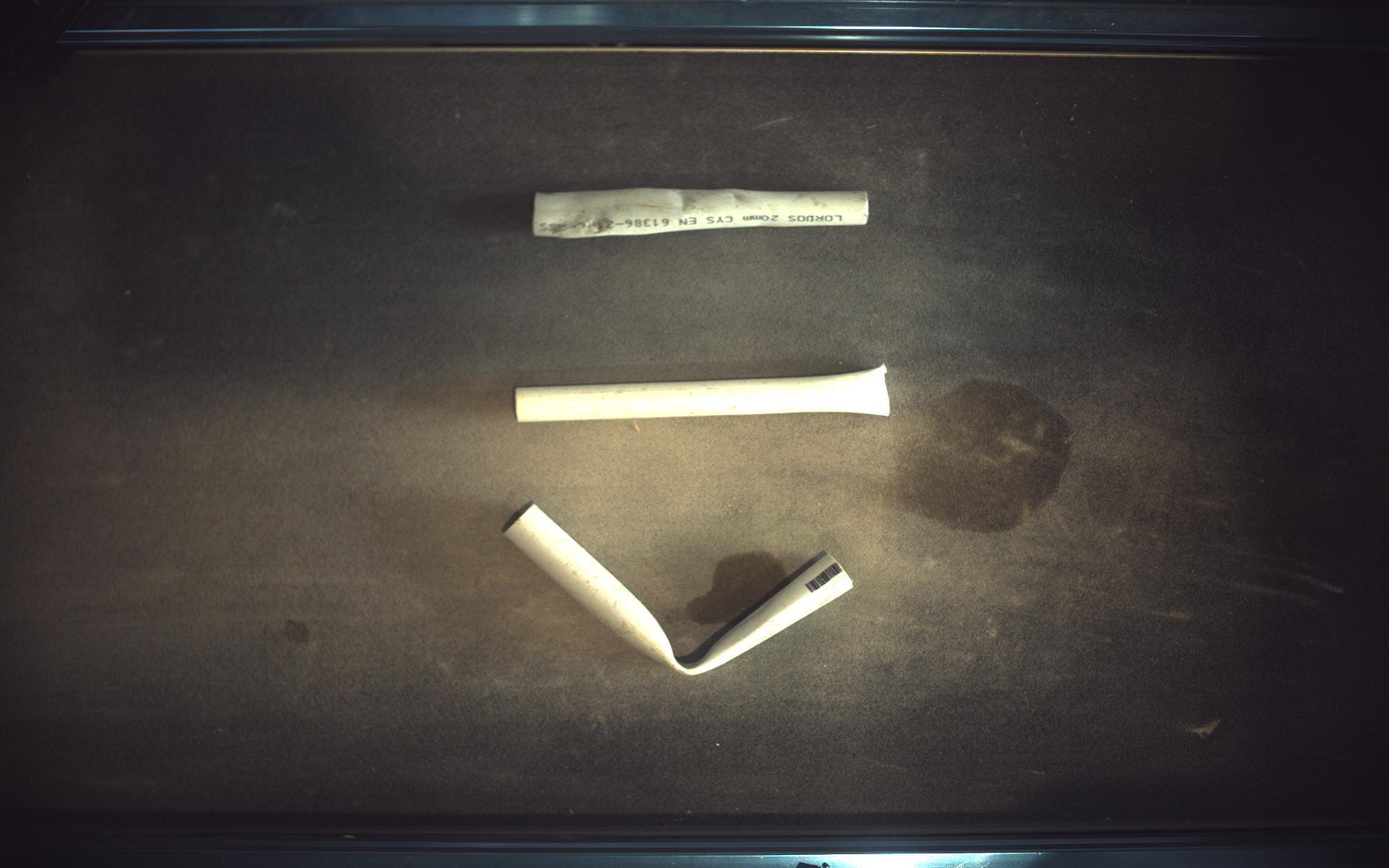pipes: (502, 502, 854, 676), (517, 365, 891, 422), (535, 187, 870, 238)
